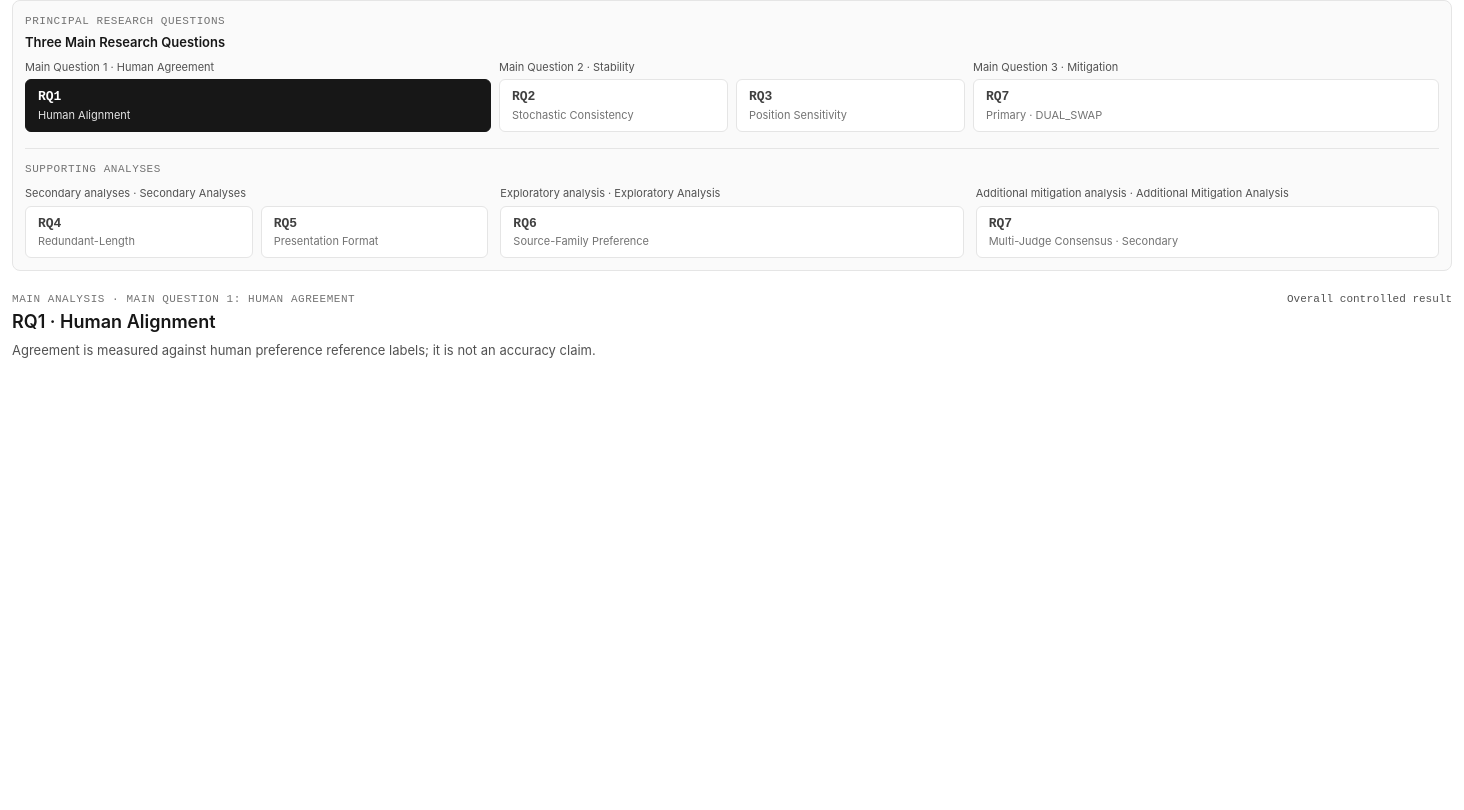
Test case: RQ7 Multi-Judge secondary presentation › does not fabricate a secondary mitigation when the API omits it
Click the button "RQ7 Primary · DUAL_SWAP" at [1044, 115], box top-left (973, 79), bottom-right (1439, 132)
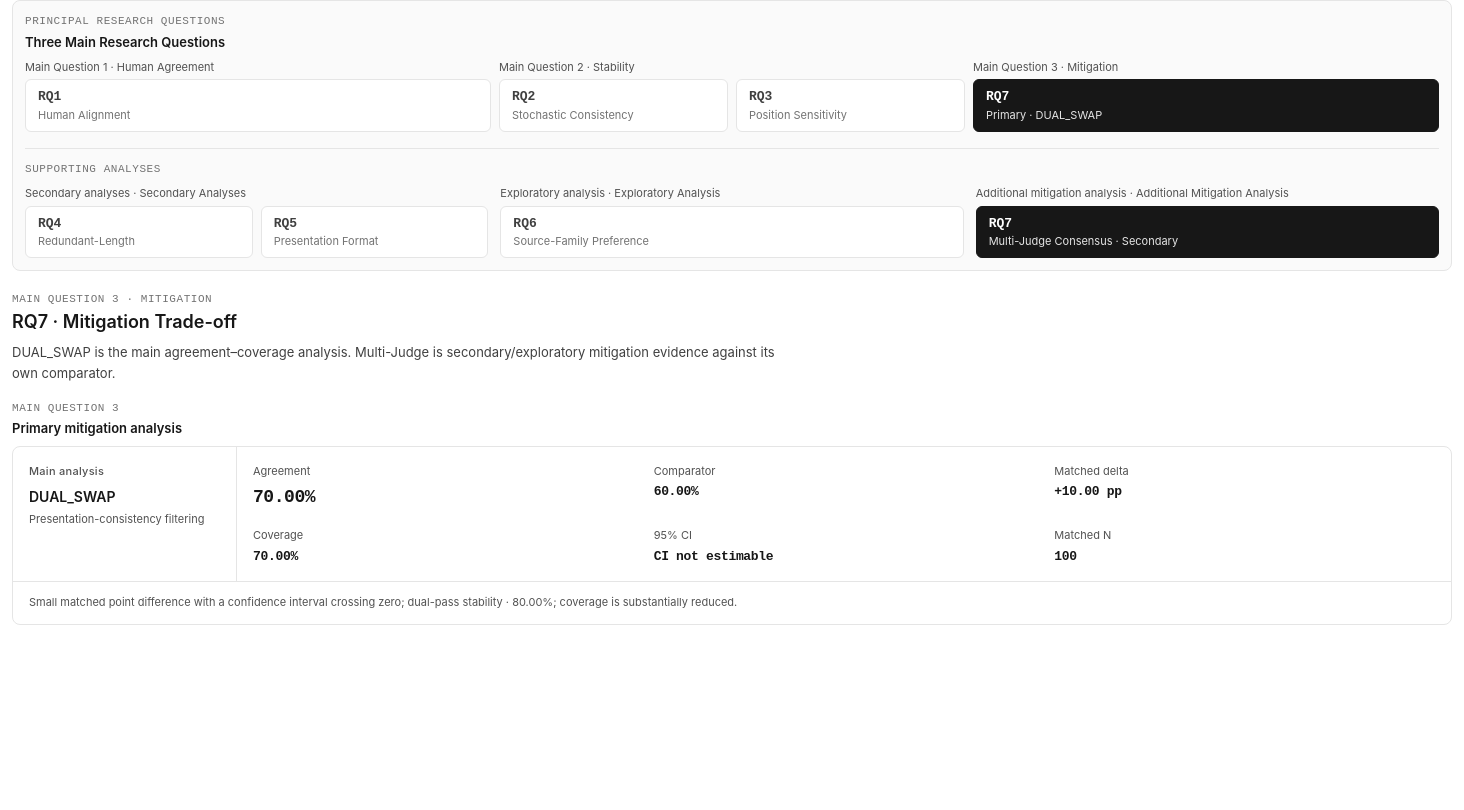
Result: the element named "DUAL_SWAP primary mitigation" is shown at top-left (12, 446), bottom-right (1452, 625)
